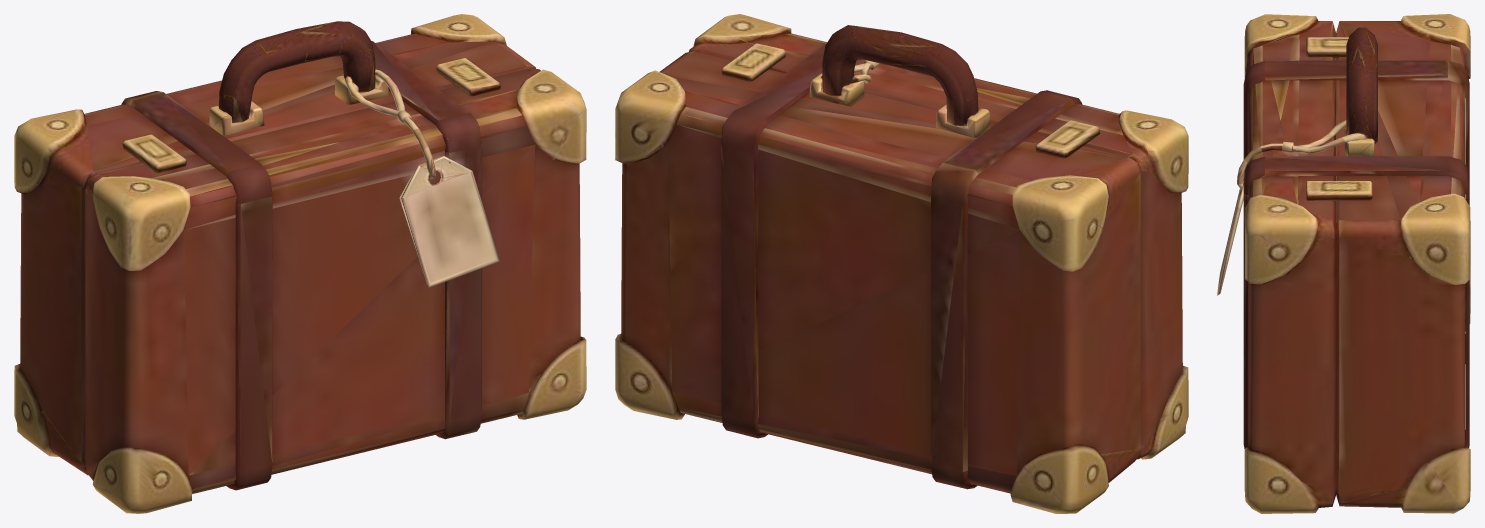
Rendered from item-suitcase.glb.
3 views of the same model, side by side, from view 1: azimuth 30°, elevation 25°; view 2: azimuth 150°, elevation 25°; view 3: azimuth 270°, elevation 25° (orthographic). The views are drawn at different scales.
Bounding box in the file's own units: 0.9536 × 0.7646 × 0.48.
Materials: 1 (1 with a texture image).
